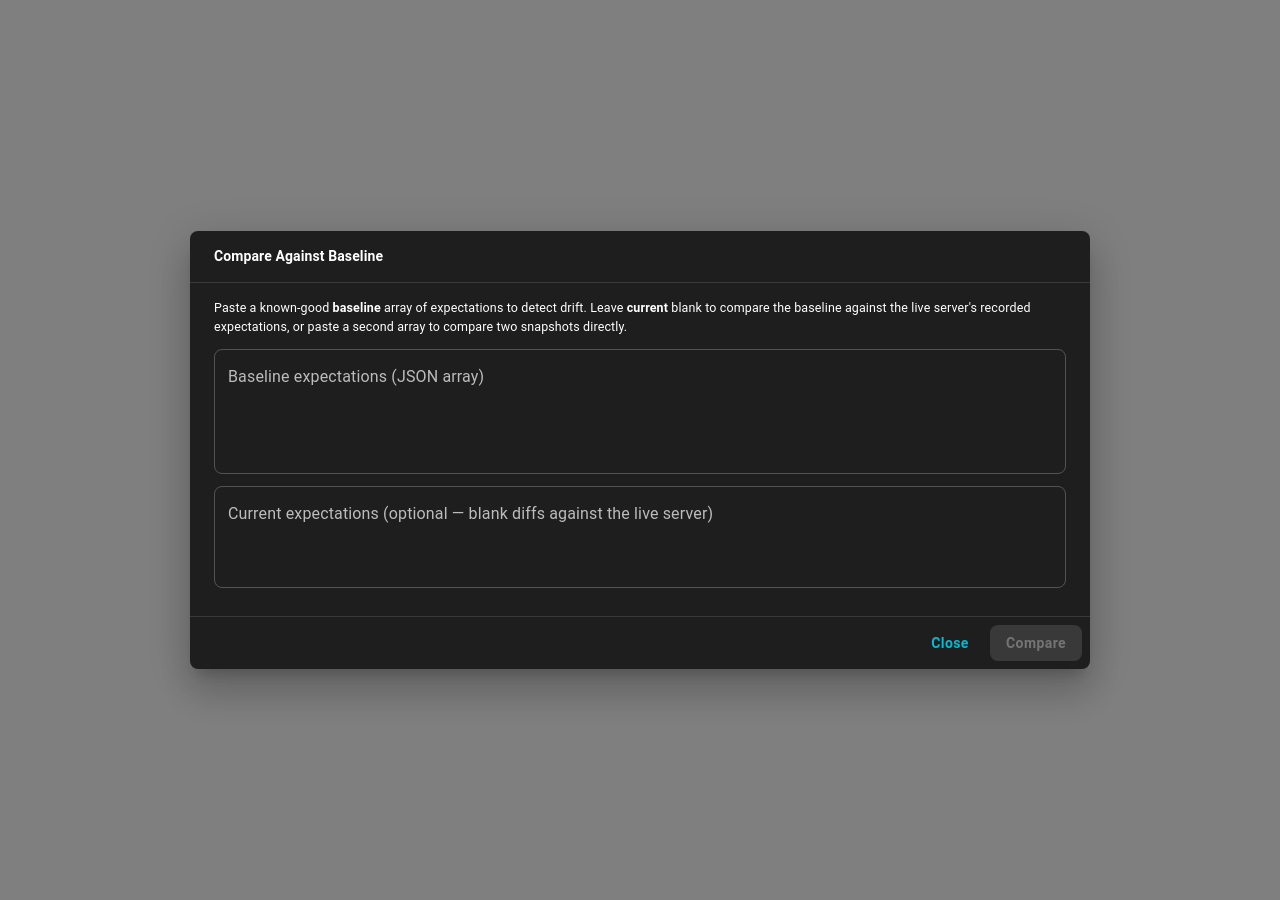
Test case: BaselineCompareDialog › shows a humanised error when the server rejects the request
Replace the text in the text box labelled "Baseline expectations (JSON array)" with "[]". click: (640, 411)
box: [228, 365, 1052, 457]
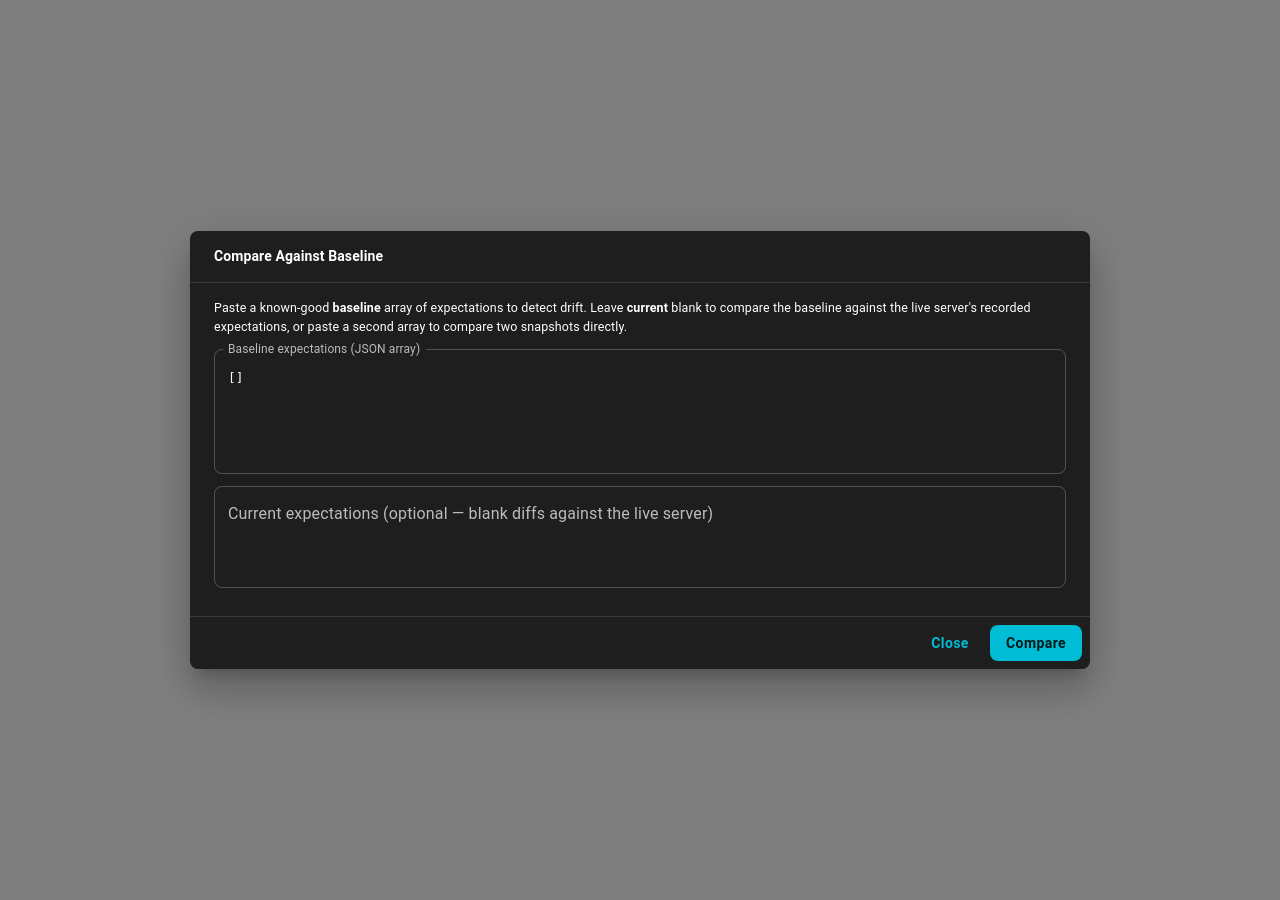
Click the button "Compare". click: (1036, 643)
box: [990, 625, 1082, 661]
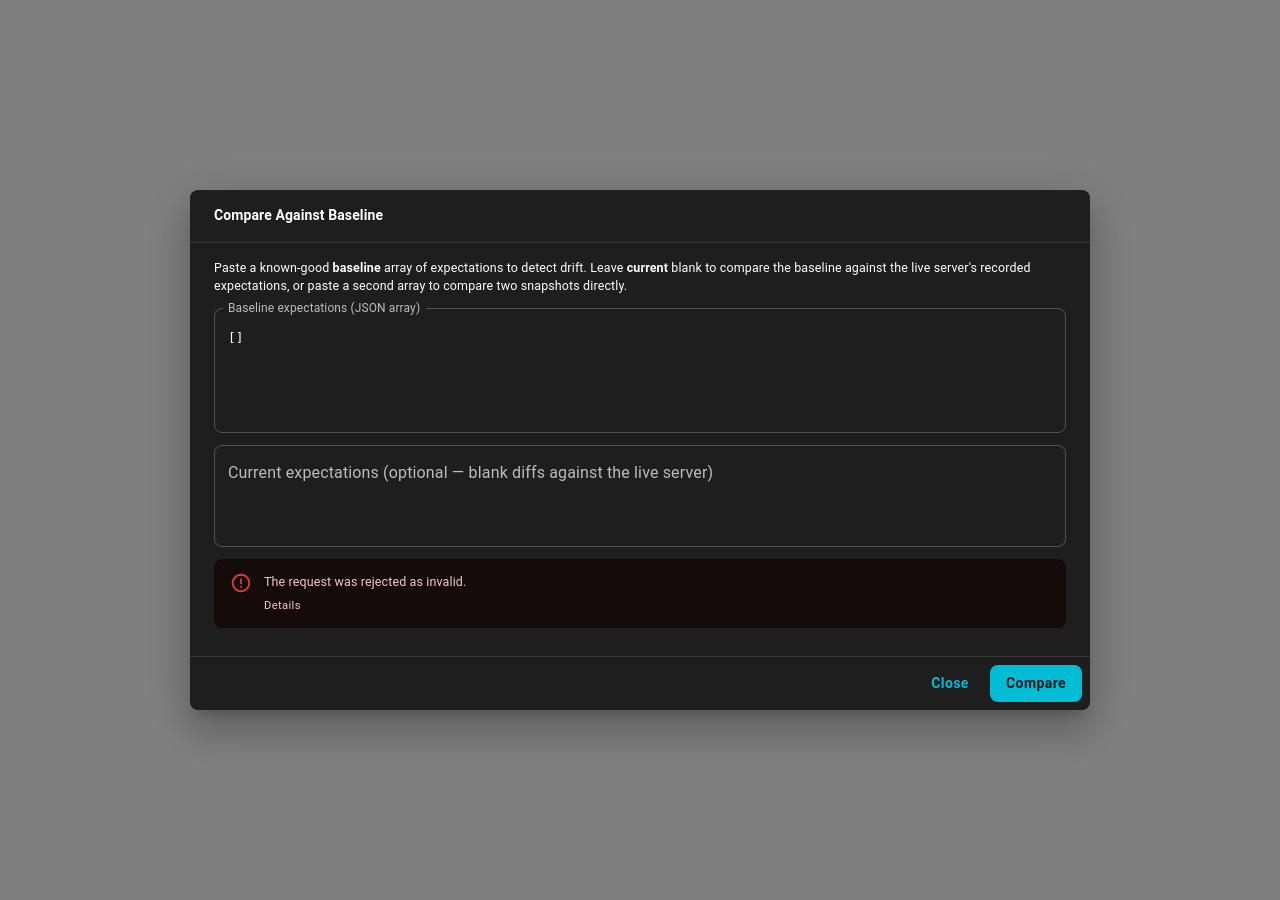
Expected: the text "The request was rejected as invalid. Details" is shown, [264, 565, 466, 622]
